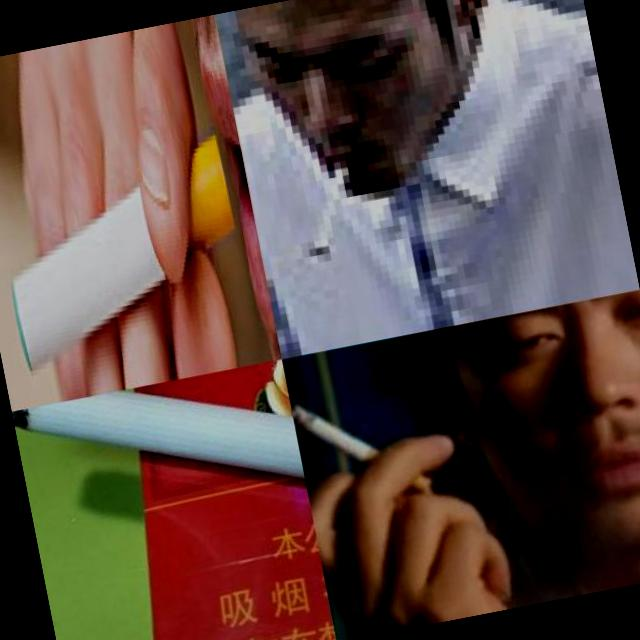smoke: (12, 360, 325, 638), (0, 126, 254, 372), (291, 380, 435, 518), (278, 145, 370, 266)
